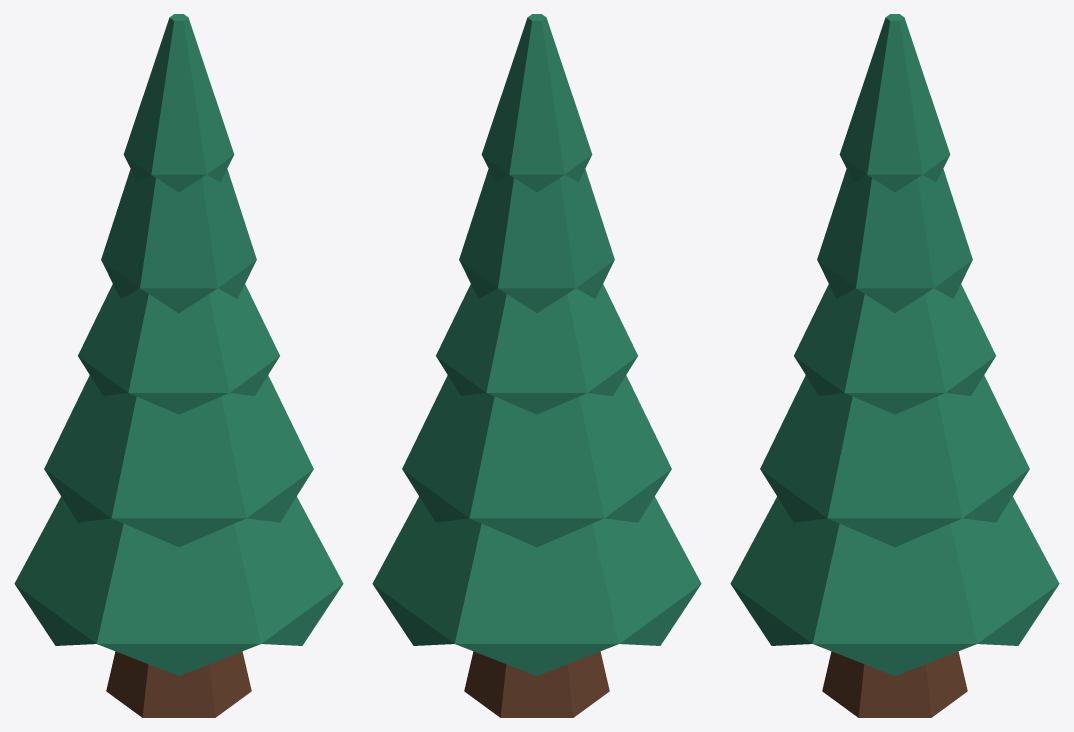
The model's file is pine_round.glb.
3 renders of one model, left to right at view 1: azimuth 30°, elevation 25°; view 2: azimuth 150°, elevation 25°; view 3: azimuth 270°, elevation 25°, orthographic.
Visible parts, largest first — view 1: tree_pineRoundC; view 2: tree_pineRoundC; view 3: tree_pineRoundC.
Part boxes in pixels (x1,y1,x2,y2): tree_pineRoundC: [14, 14, 343, 717]; tree_pineRoundC: [372, 14, 701, 717]; tree_pineRoundC: [730, 14, 1059, 717].
Bounding box in the file's own units: 0.8647 × 2.26 × 0.9985.
